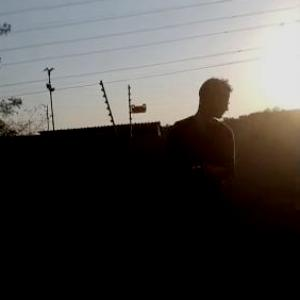follow: (158, 73, 240, 299)
